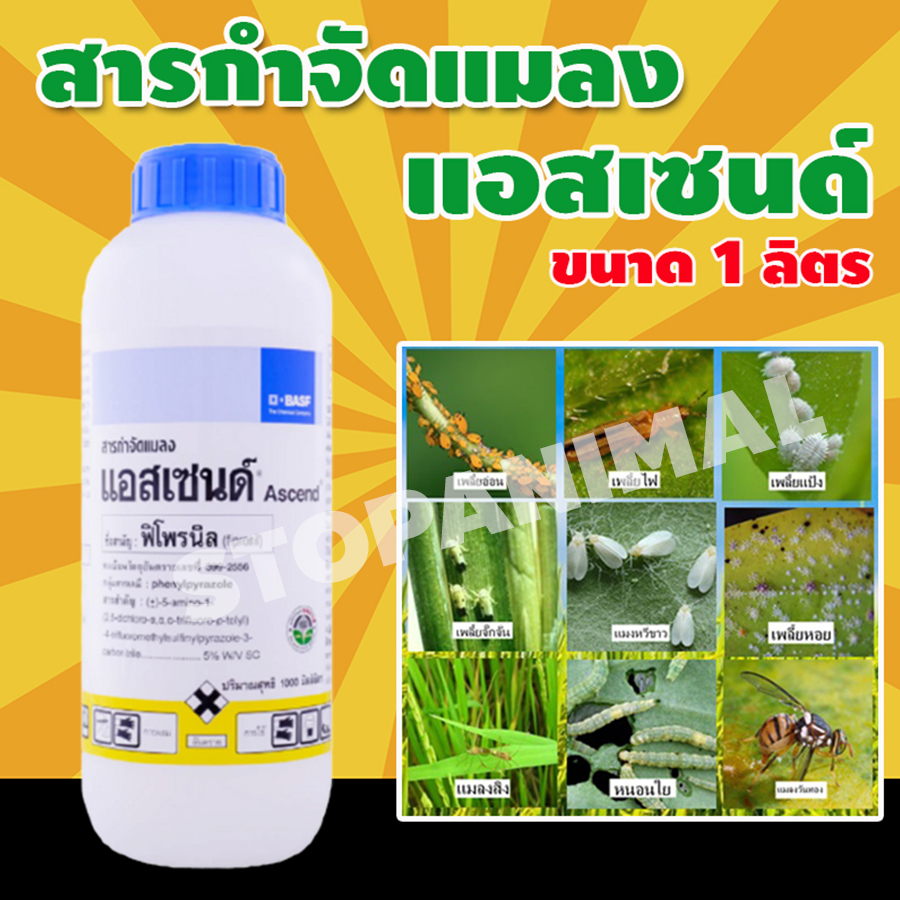Insecticide: (68, 133, 341, 875)
